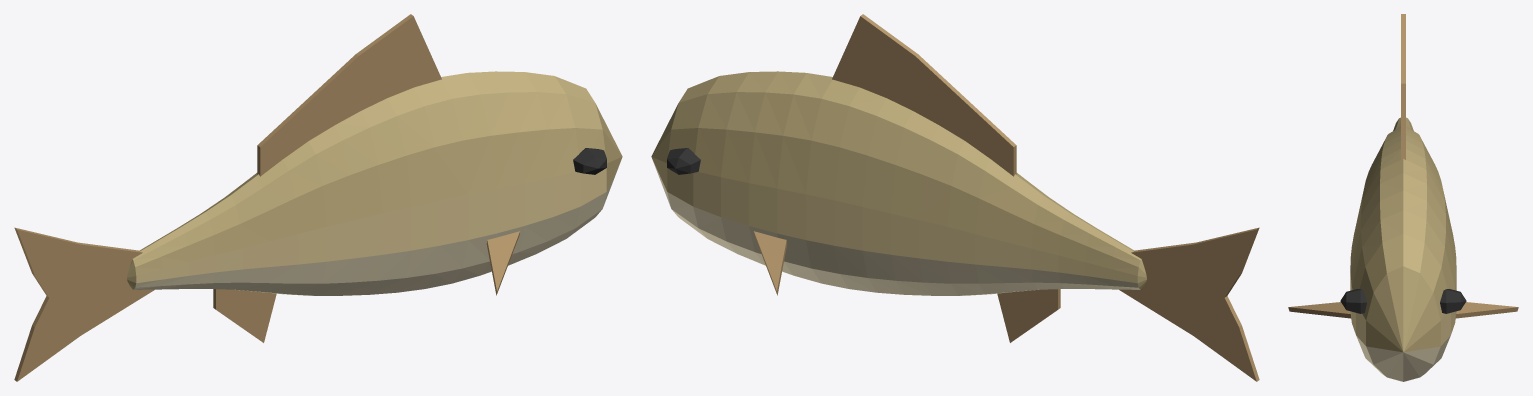
File: fish_carp.fbx
3 renders of one model, left to right at view 1: azimuth 30°, elevation 25°; view 2: azimuth 150°, elevation 25°; view 3: azimuth 270°, elevation 25°, orthographic. The views are drawn at different scales.
Visible parts, largest first — view 1: fish_carp; view 2: fish_carp; view 3: fish_carp.
Part boxes in pixels (<box>): fish_carp: <box>14,14,622,381</box>; fish_carp: <box>651,14,1259,381</box>; fish_carp: <box>1288,14,1518,381</box>.
Bounding box in the file's own units: 50 × 22.88 × 18.11.
